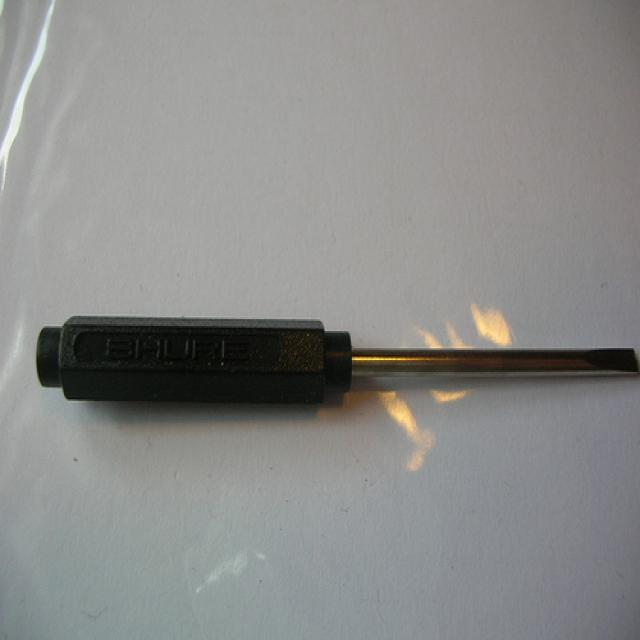screwdriver: (28, 295, 640, 440)
